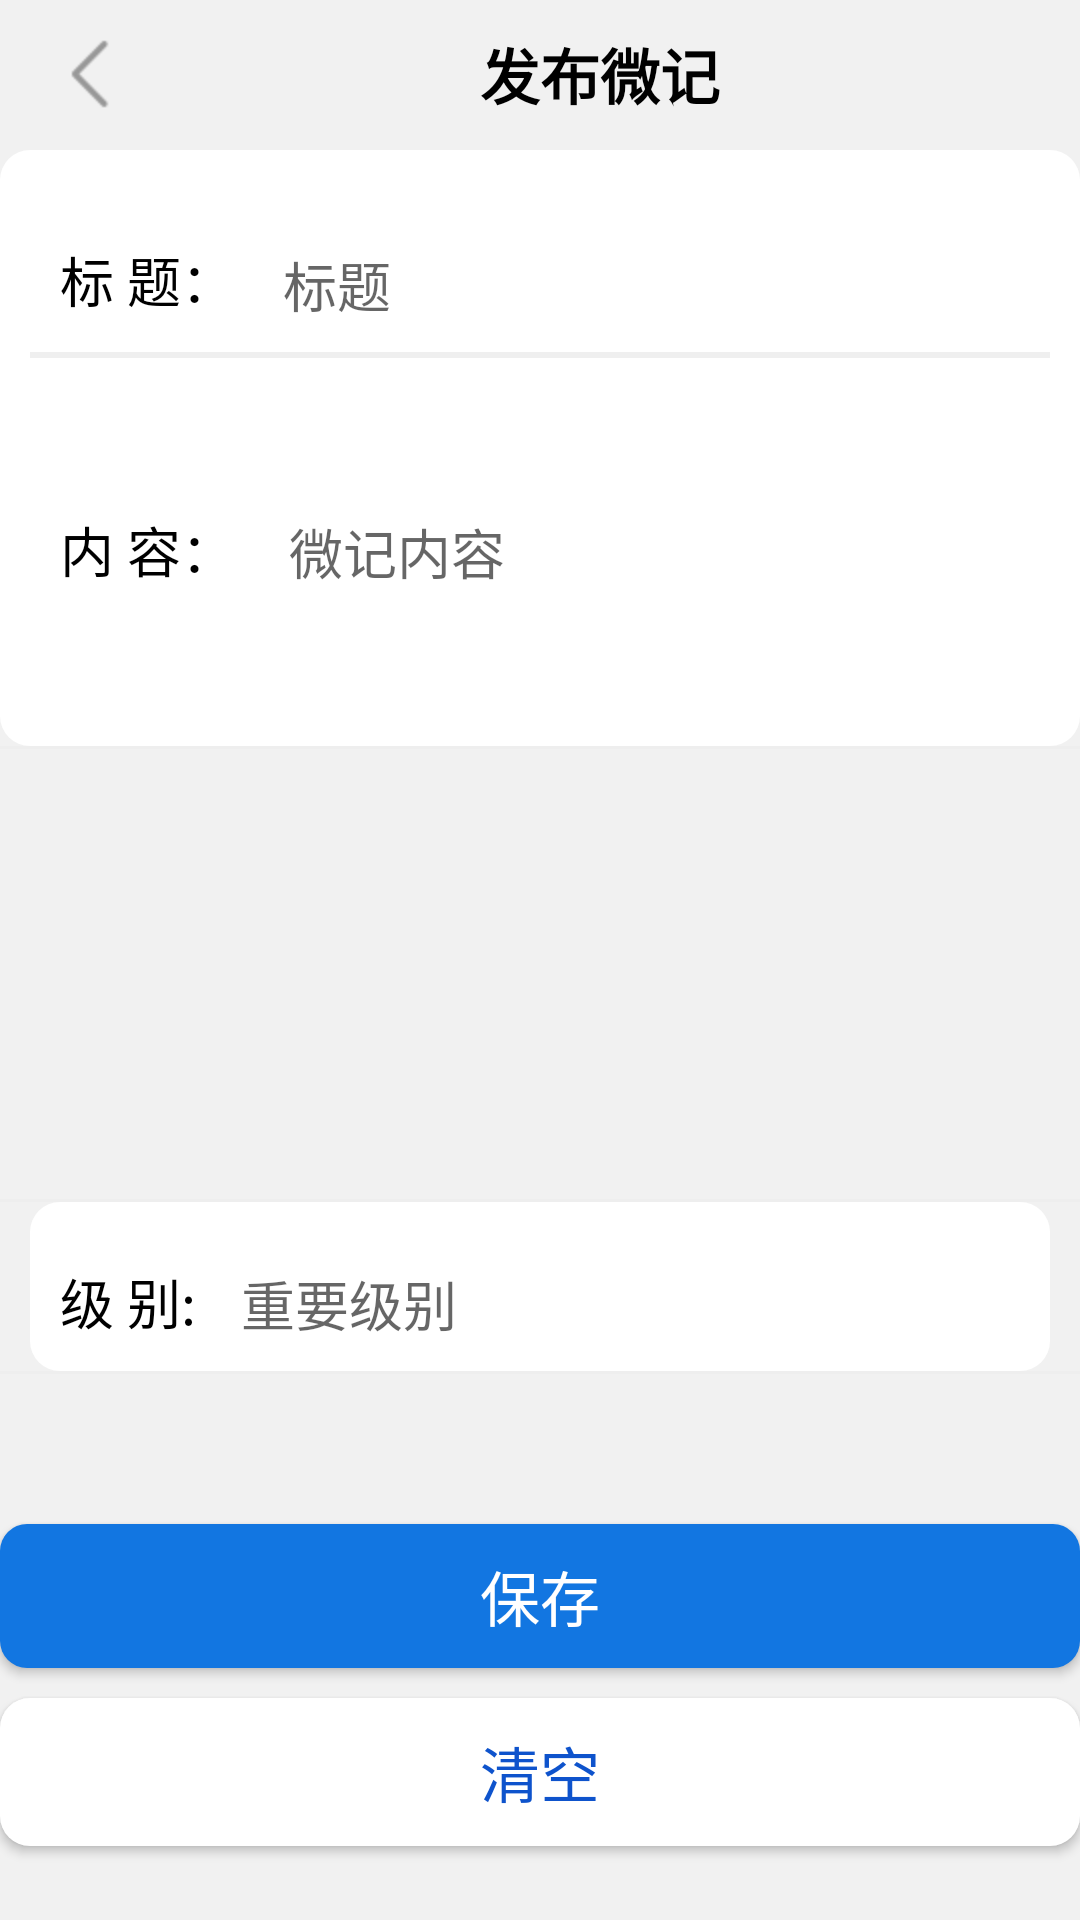

Where icons sit on this 1080 × 1920 app screen, as (x1, y1, x2, y2):
top bar left back: (72, 41, 108, 107)
